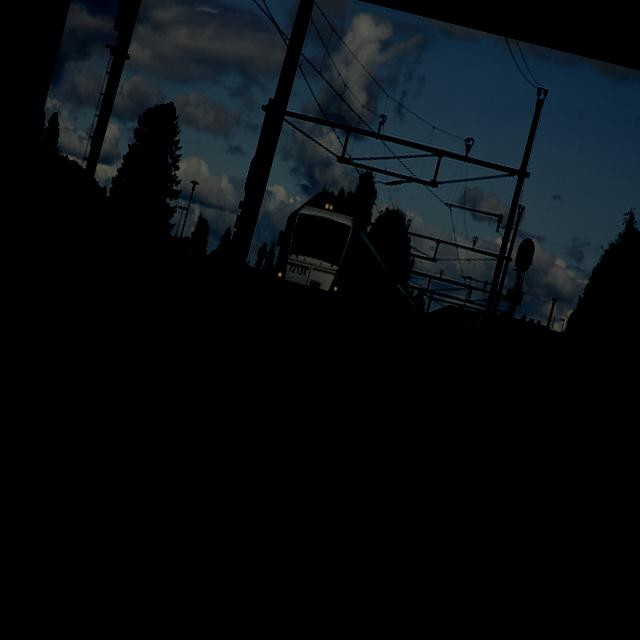Vehicle: (134, 278, 158, 302)
